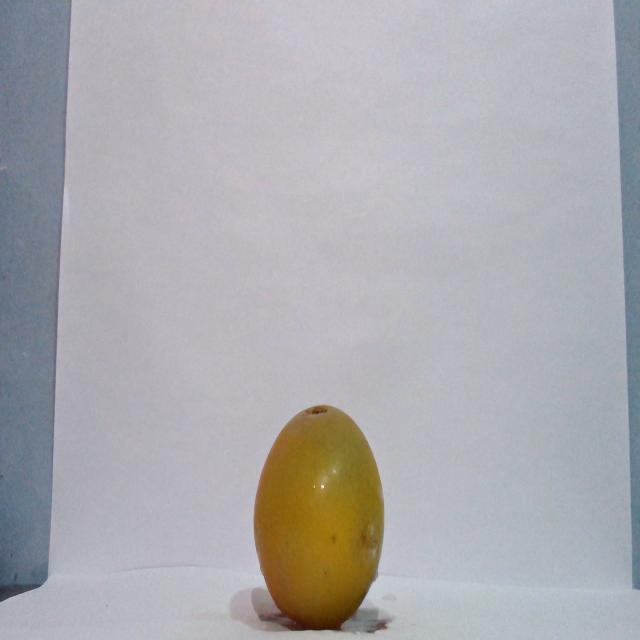Green: (251, 402, 385, 629)
